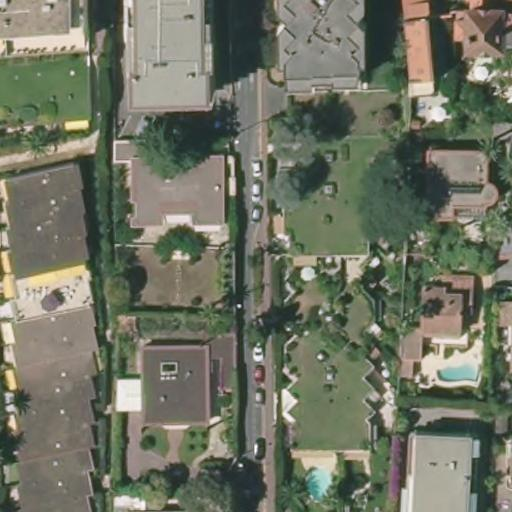pool: (432, 360, 482, 383), (299, 464, 330, 500)
